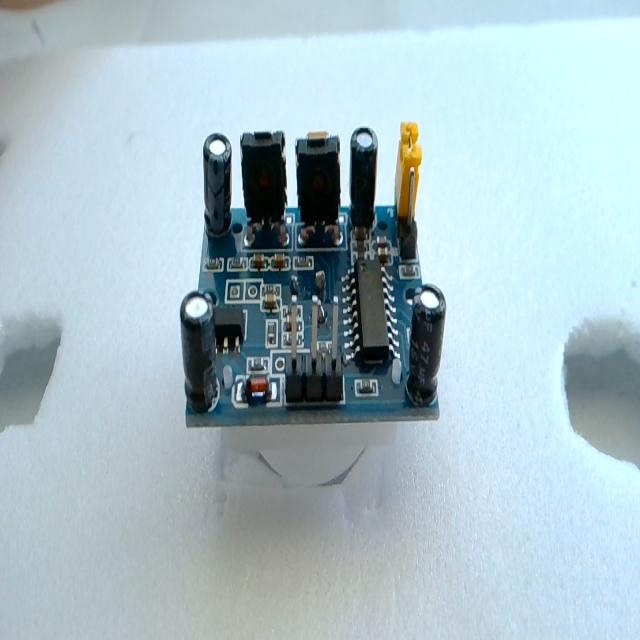Electrolytic capacitor: (407, 284, 446, 404), (180, 291, 218, 411), (202, 131, 233, 238), (349, 127, 379, 230)
IC: (340, 250, 398, 371)
pinheader: (280, 283, 346, 417)
